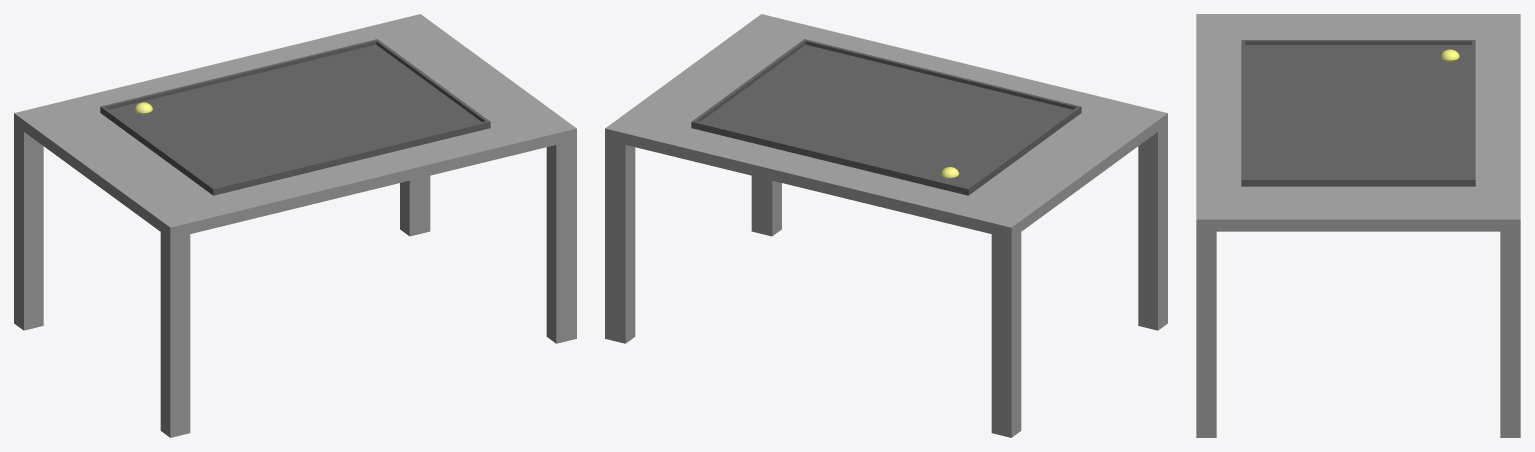
Rendered from TrayTableAndBunScaled.fbx.
The picture shows the model from 3 angles, left to right: view 1: azimuth 30°, elevation 25°; view 2: azimuth 150°, elevation 25°; view 3: azimuth 270°, elevation 25°; orthographic projection. The views are drawn at different scales.
Parts seen in each view (by area): view 1: tableTop, BakingTray; view 2: tableTop, BakingTray; view 3: tableTop, BakingTray.
Part boxes in pixels (box(x1,y1,x2,y2)): tableTop: box(14, 14, 576, 437); BakingTray: box(100, 39, 490, 195); tableTop: box(605, 14, 1167, 437); BakingTray: box(691, 39, 1081, 195); tableTop: box(1196, 14, 1520, 437); BakingTray: box(1241, 40, 1475, 186).
Bounding box in the file's own units: 150 × 78.16 × 100.
